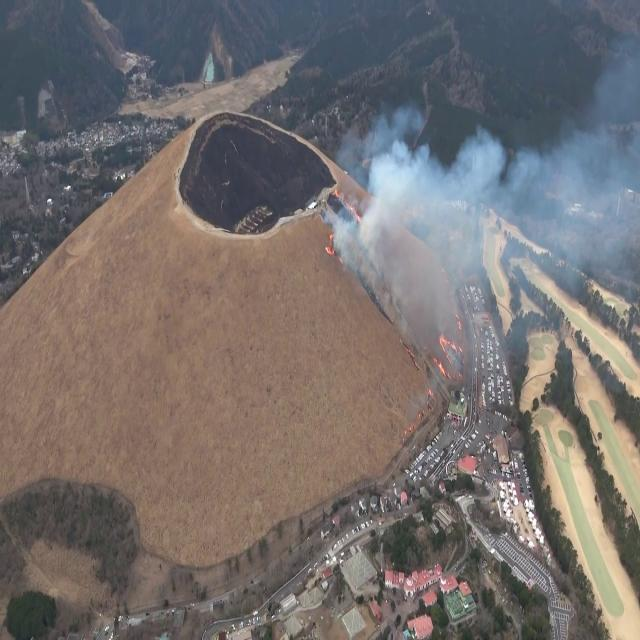Smoke: (342, 89, 514, 378), (522, 1, 640, 286)
